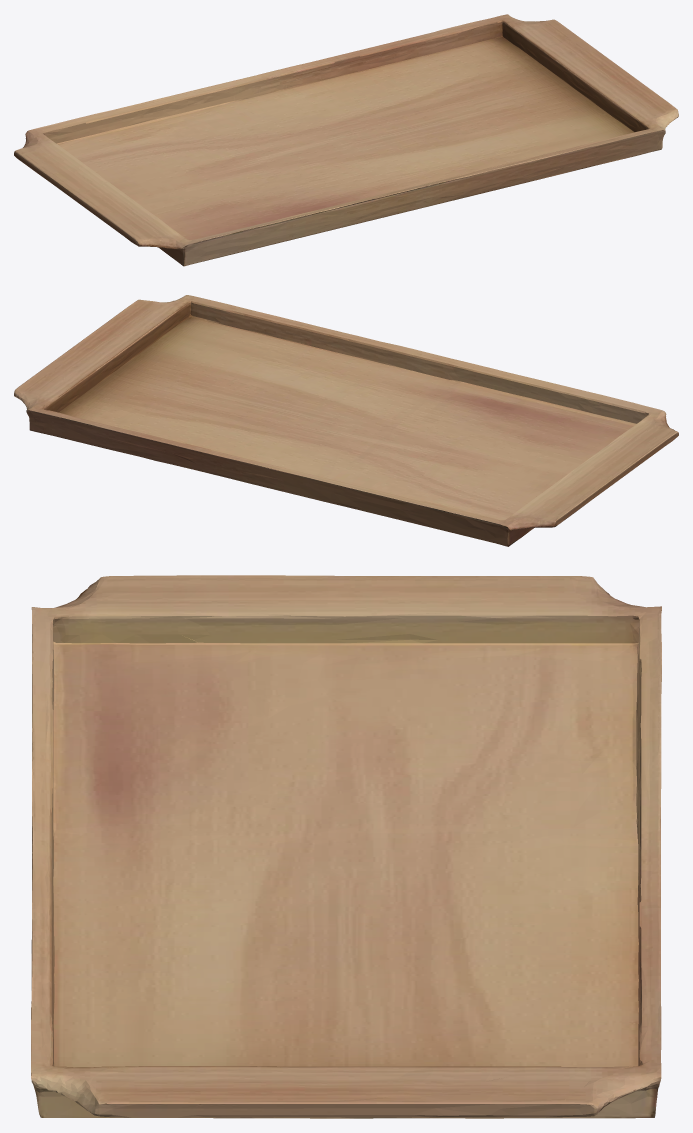
Rendered from 7bffbcaf-5dab-474d-b19e-74ab3e584f5c.glb.
3 renders of one model, top to bottom at view 1: azimuth 30°, elevation 25°; view 2: azimuth 150°, elevation 25°; view 3: azimuth 270°, elevation 25°, orthographic. The views are drawn at different scales.
Parts seen in each view (by area): view 1: world; view 2: world; view 3: world.
Boxes of the visible parts, x1,y1,x2,y2 form: world: (14, 14, 678, 266); world: (14, 295, 678, 546); world: (31, 575, 661, 1118).
Bounding box in the file's own units: 1 × 0.0416 × 0.5062.
1 material, 1 textured.
